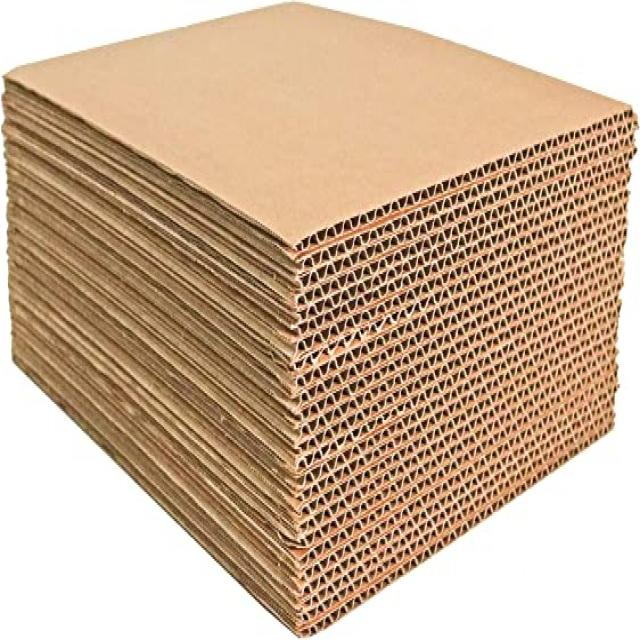Carton: (4, 2, 638, 639)
